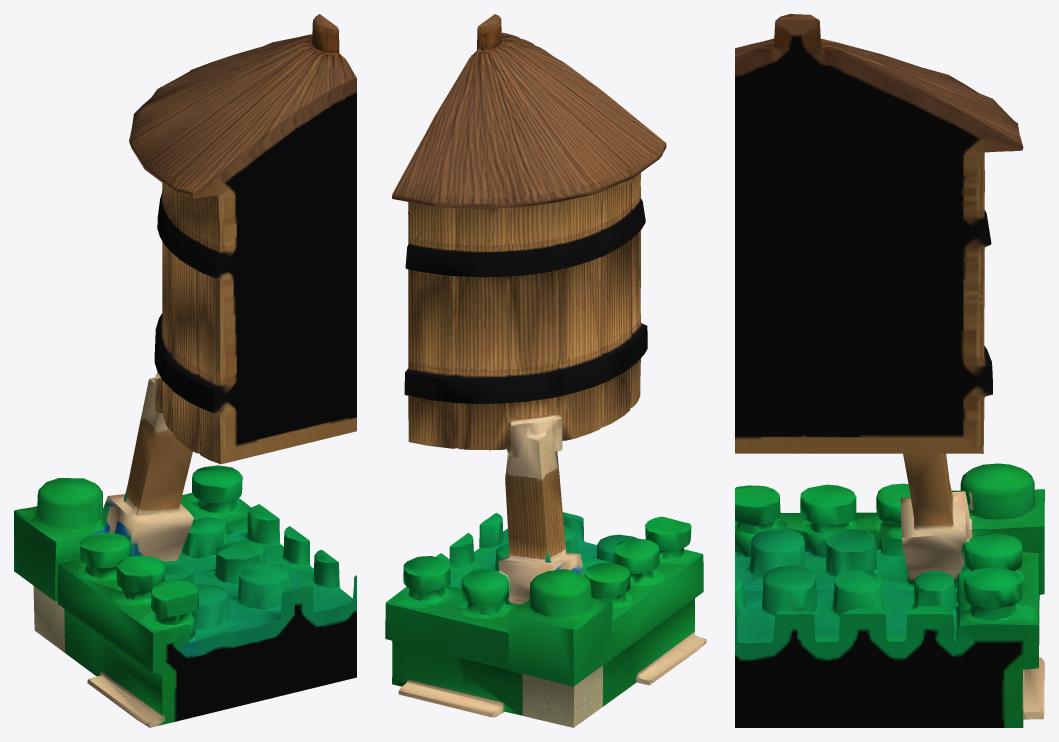
File: 15-topper-back-left.fbx
3 views of the same model, side by side, from view 1: azimuth 30°, elevation 25°; view 2: azimuth 150°, elevation 25°; view 3: azimuth 270°, elevation 25° (orthographic). The views are drawn at different scales.
Visible parts, largest first — view 1: topper-back-left; view 2: topper-back-left; view 3: topper-back-left.
Part boxes in pixels (x1=…): topper-back-left: x1=14, y1=14, x2=356, y2=727; topper-back-left: x1=385, y1=14, x2=706, y2=727; topper-back-left: x1=735, y1=14, x2=1044, y2=727.
Bounding box in the file's own units: 3499 × 10210 × 4046.
1 material, 1 textured.
